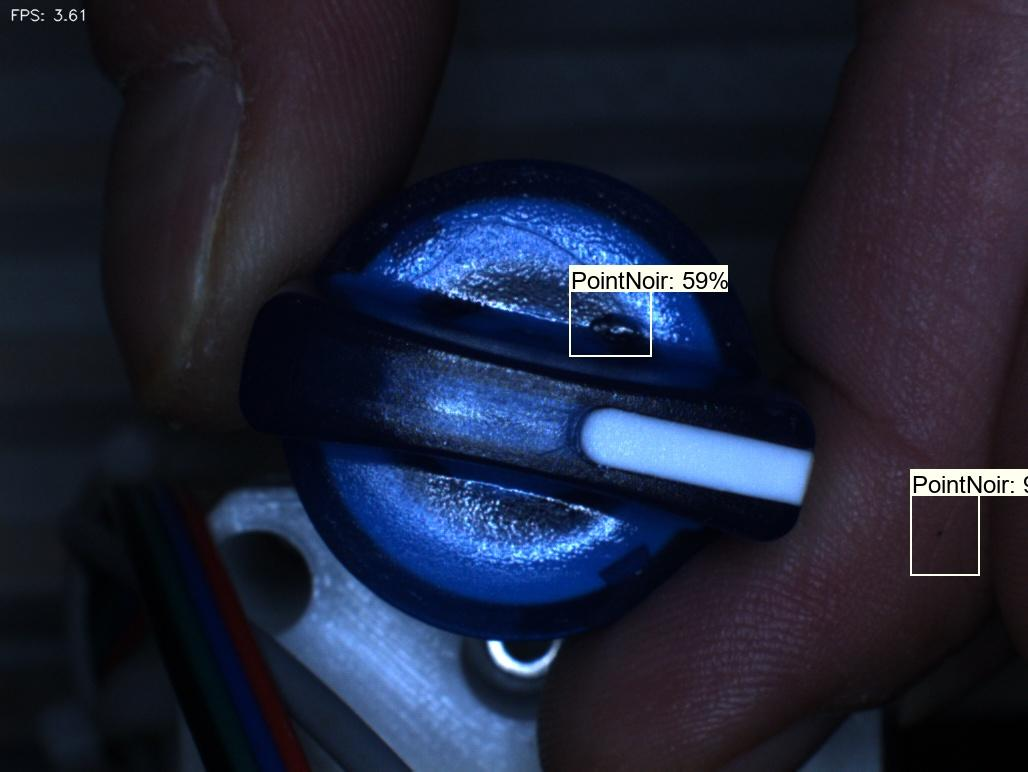Choc: (576, 298, 669, 376)
